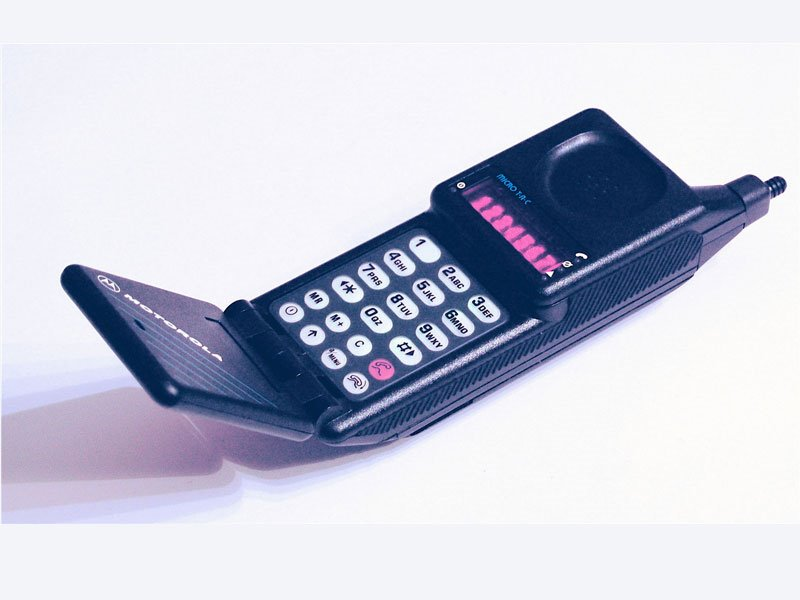Phone: (57, 100, 788, 453)
